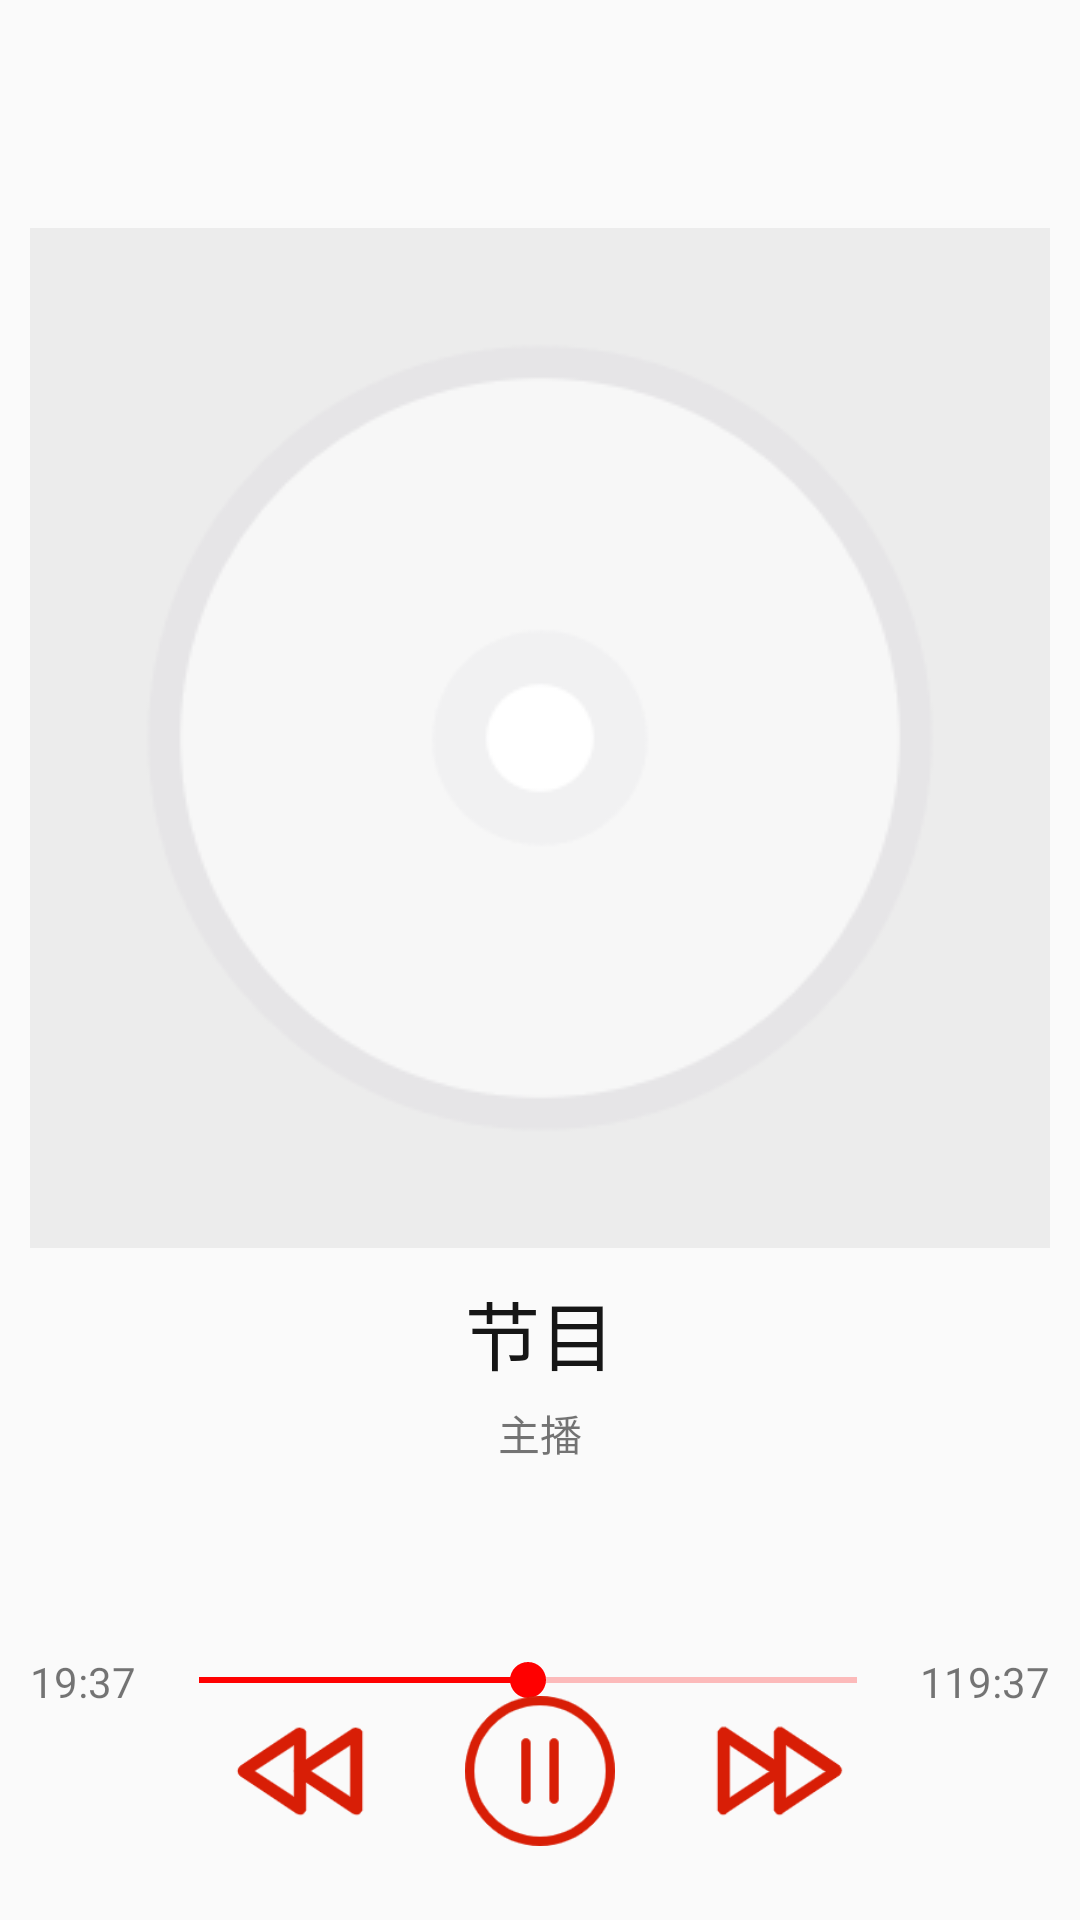

Icons on this 1080px x 1920px Android screen, each with its box as {"left": x1, "top": y1, "right": x2, "bottom": y2}:
next: {"left": 717, "top": 1726, "right": 843, "bottom": 1816}
pause: {"left": 465, "top": 1696, "right": 615, "bottom": 1846}
previous: {"left": 237, "top": 1727, "right": 363, "bottom": 1816}
